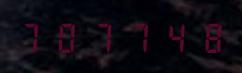eight: (188, 20, 221, 53)
four: (154, 20, 187, 53)
seven: (17, 20, 50, 53), (86, 20, 119, 53), (120, 20, 153, 53)
zero: (51, 20, 84, 53)
